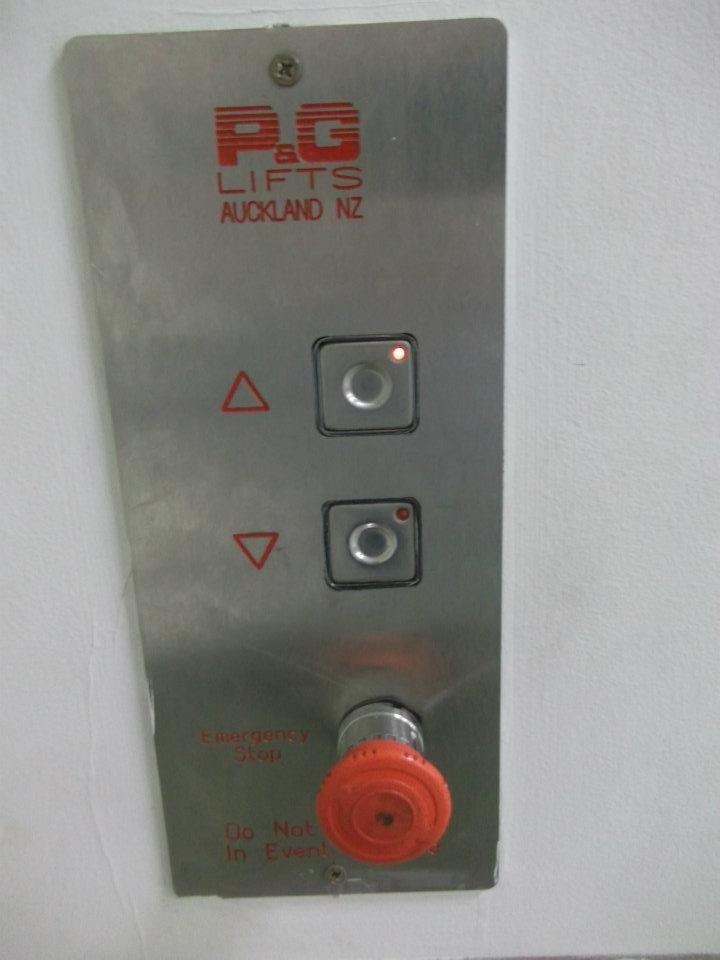empty: (311, 697, 452, 864), (312, 333, 421, 437), (321, 498, 423, 590)
